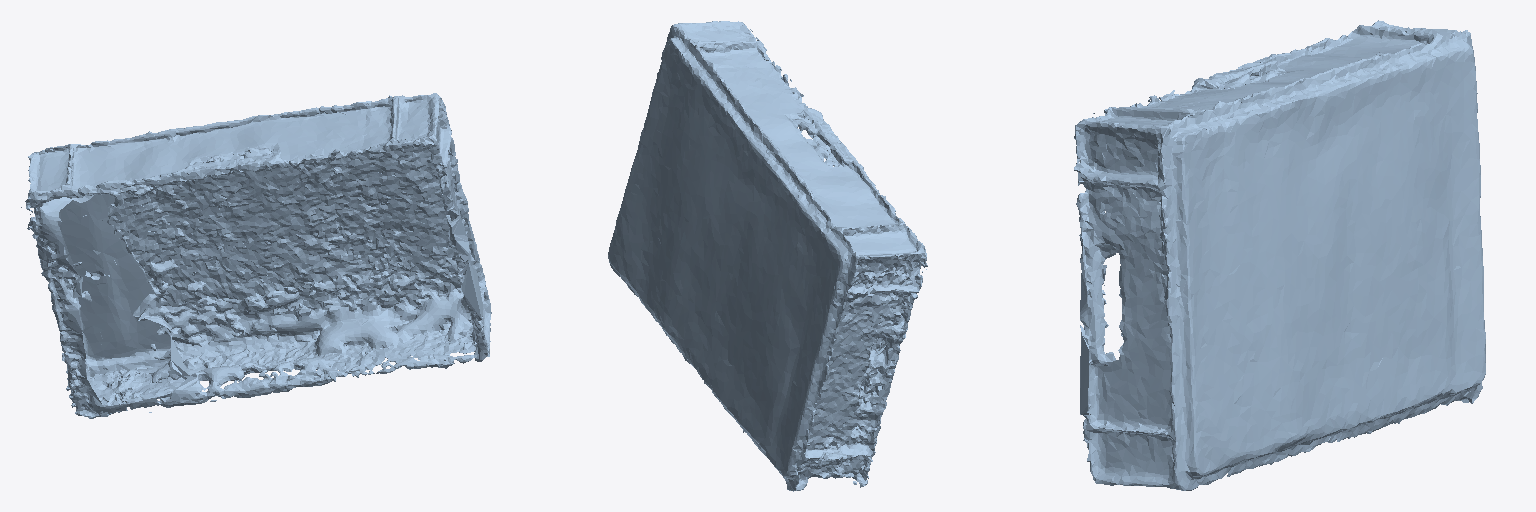
The robot description file, URDF, robot "plasticcontainer.urdf":
<?xml version="1.0" ?>
<robot name="plasticcontainer.urdf">
  <dynamics damping="0.5" friction="0.9"/>
  <link name="baseLink">
    <contact>
      <lateral_friction value="0.9"/>
      <rolling_friction value="0.5"/>
      <stiffness value="30000"/>
      <damping value="1000"/>
    </contact>
    <visual>
      <origin rpy="0 0 0" xyz="0 0 0"/>
      <geometry>
        <mesh filename="objects/plasticcontainer/plasticcontainer.obj" scale="1.0 1.0 1.0"/>
      </geometry>
       <material name="mat">
        <color rgba="0.7 0.8 0.9 1"/>
      </material>
    </visual>
    <collision>
      <origin rpy="0 0 0" xyz="0 0 0"/>
      <geometry>
         <mesh filename="objects/plasticcontainer/plasticcontainer.obj" scale="1.0 1.0 1.0"/>
      </geometry>
    </collision>
  </link>
</robot>

--- Facts derived from the render (not from the file) ---
Views: 3 orthographic renders of the robot side by side, from view 1: azimuth 30°, elevation 25°; view 2: azimuth 150°, elevation 25°; view 3: azimuth 270°, elevation 25°.
Model plasticcontainer.urdf with 1 links and 0 joints (none), rooted at baseLink, posed all joints at 0.
Links seen in each view (by area): view 1: baseLink; view 2: baseLink; view 3: baseLink.
Link boxes in pixels (<box>): baseLink: <box>21,93,491,418</box>; baseLink: <box>608,21,927,491</box>; baseLink: <box>1074,20,1485,490</box>.
Bounding box of the posed robot: 0.6374 × 0.434 × 0.5021 m (x, y, z).
Meshes: 1 distinct files referenced, 1 mesh visuals loaded (1 OBJ).
